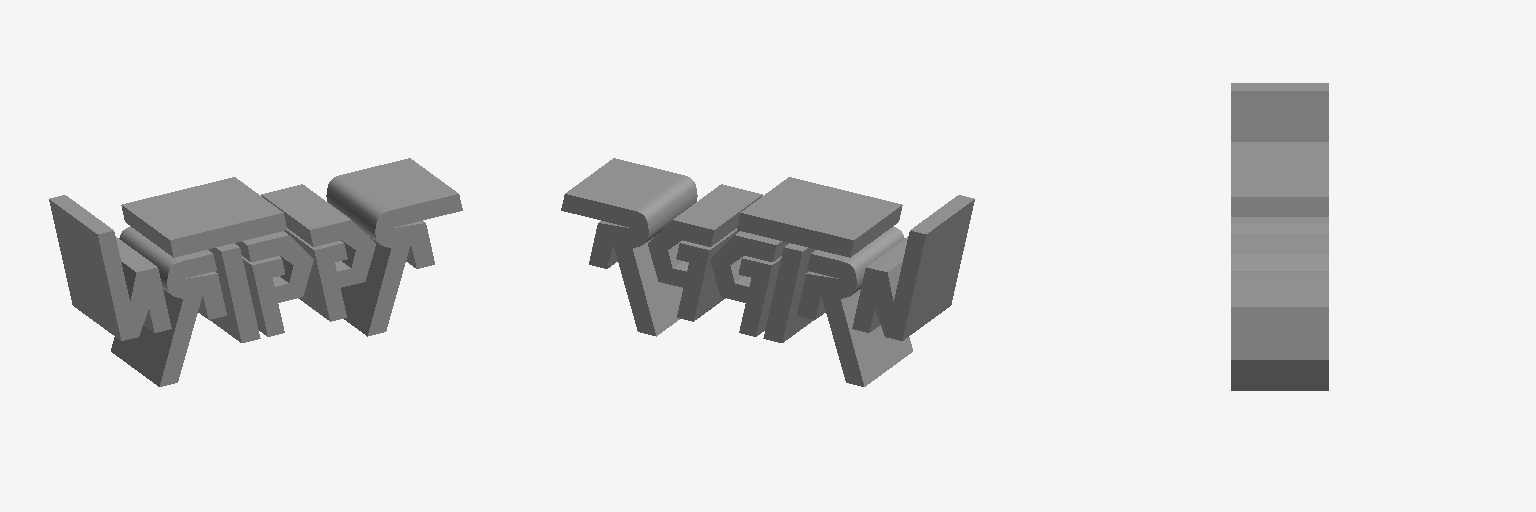
The model's file is rggtrnDerecho.obj.
3 renders of one model, left to right at view 1: azimuth 30°, elevation 25°; view 2: azimuth 150°, elevation 25°; view 3: azimuth 270°, elevation 25°, orthographic.
Parts seen in each view (by area): view 1: Curve.001_path918; view 2: Curve.001_path918; view 3: Curve.001_path918.
Boxes of the visible parts, box(x1,y1,x2,y2) form: Curve.001_path918: box(49, 158, 462, 386); Curve.001_path918: box(561, 158, 974, 386); Curve.001_path918: box(1231, 83, 1328, 390).
Bounding box in the file's own units: 7.84 × 3.44 × 1.81.